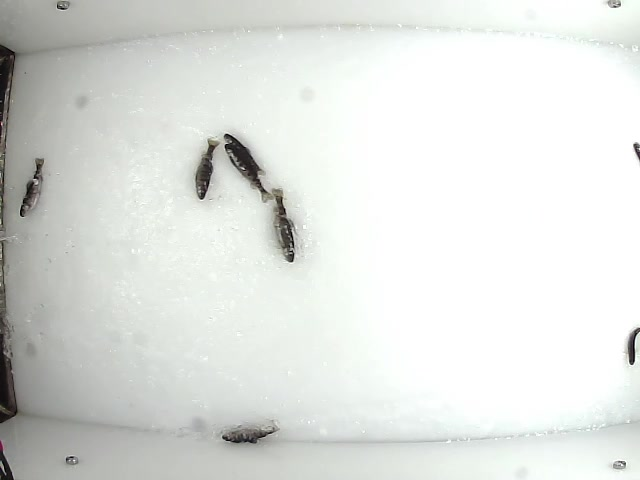fish: (220, 131, 274, 205), (270, 183, 296, 265), (190, 137, 220, 203), (17, 155, 47, 219), (219, 421, 283, 444)
